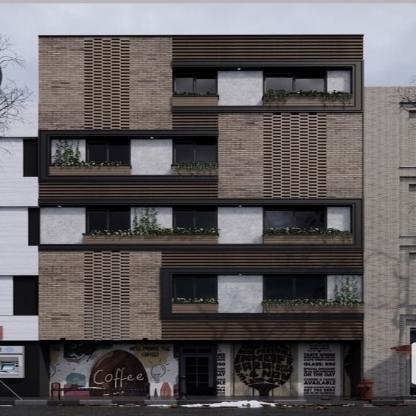Building Outline: (39, 35, 364, 396)
Dont: (354, 376, 378, 400), (176, 375, 193, 400)
Door: (179, 343, 217, 396)
Facade: (39, 35, 364, 396)
Floor: (39, 35, 364, 111), (39, 181, 364, 250), (39, 111, 364, 180), (39, 249, 364, 314)
Floor Slab: (39, 106, 364, 111), (39, 176, 364, 181), (39, 245, 364, 249), (39, 314, 364, 318)
Ground Floor: (39, 319, 364, 396)
Window: (263, 274, 328, 304), (264, 67, 328, 95), (263, 207, 328, 233), (173, 274, 218, 304), (173, 67, 218, 95), (86, 136, 131, 164), (173, 136, 218, 164), (85, 207, 130, 233), (172, 207, 217, 233)
